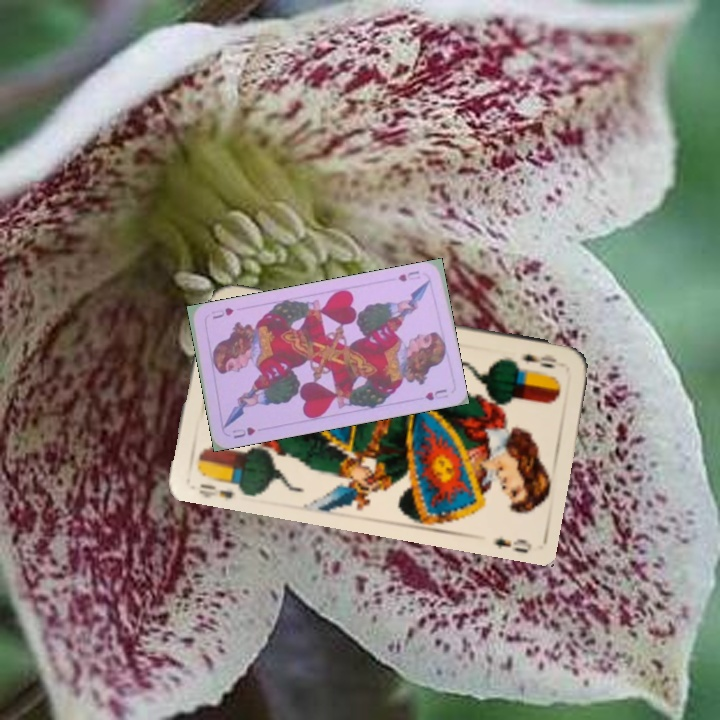EO: (194, 479, 236, 502), (518, 349, 560, 371)
HU: (229, 423, 258, 441), (394, 267, 423, 284)
